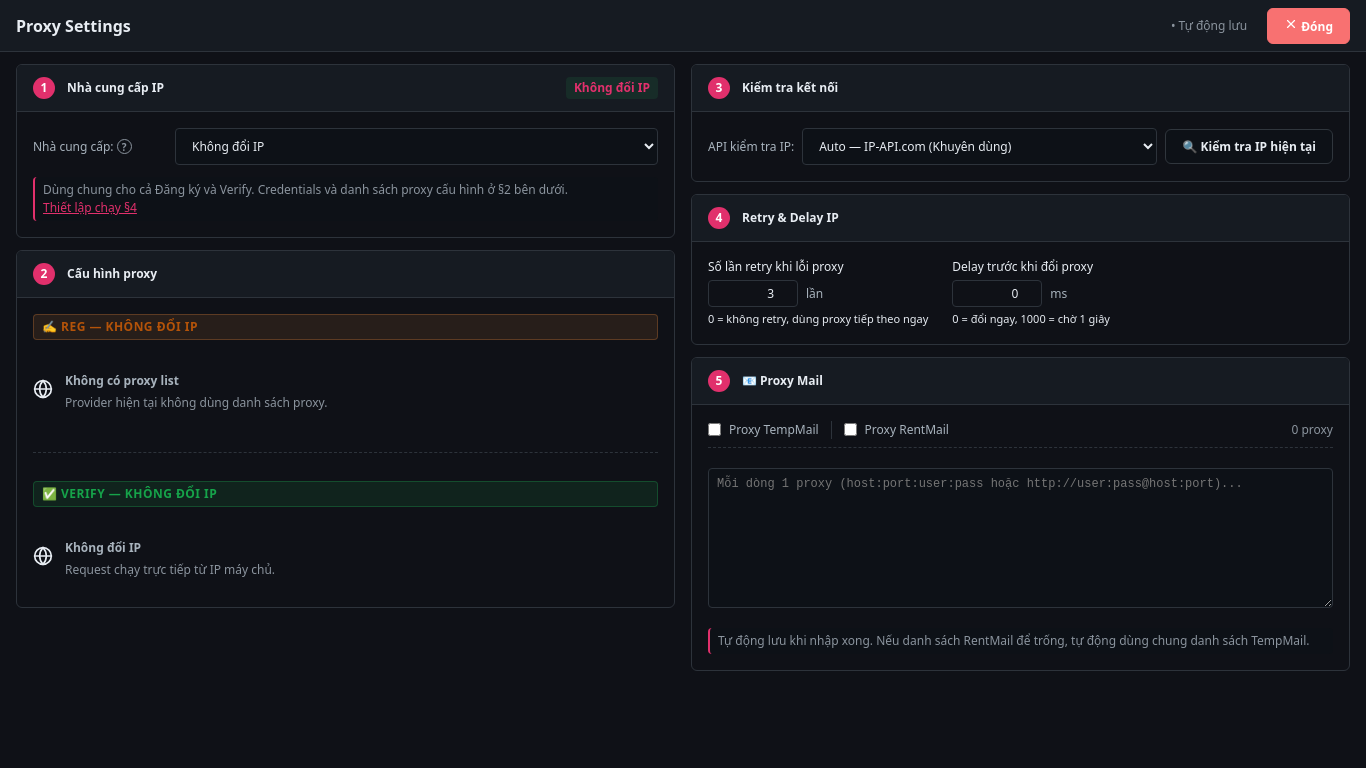
Test: ProxySettingsPage — kiểm tra IP binding › [T6] CheckCurrentIPViaProxy trả về IP → hiển thị kết quả (không crash)
Click the button "🔍 Kiểm tra IP hiện tại": (1249, 146) [1165,129,1333,164]
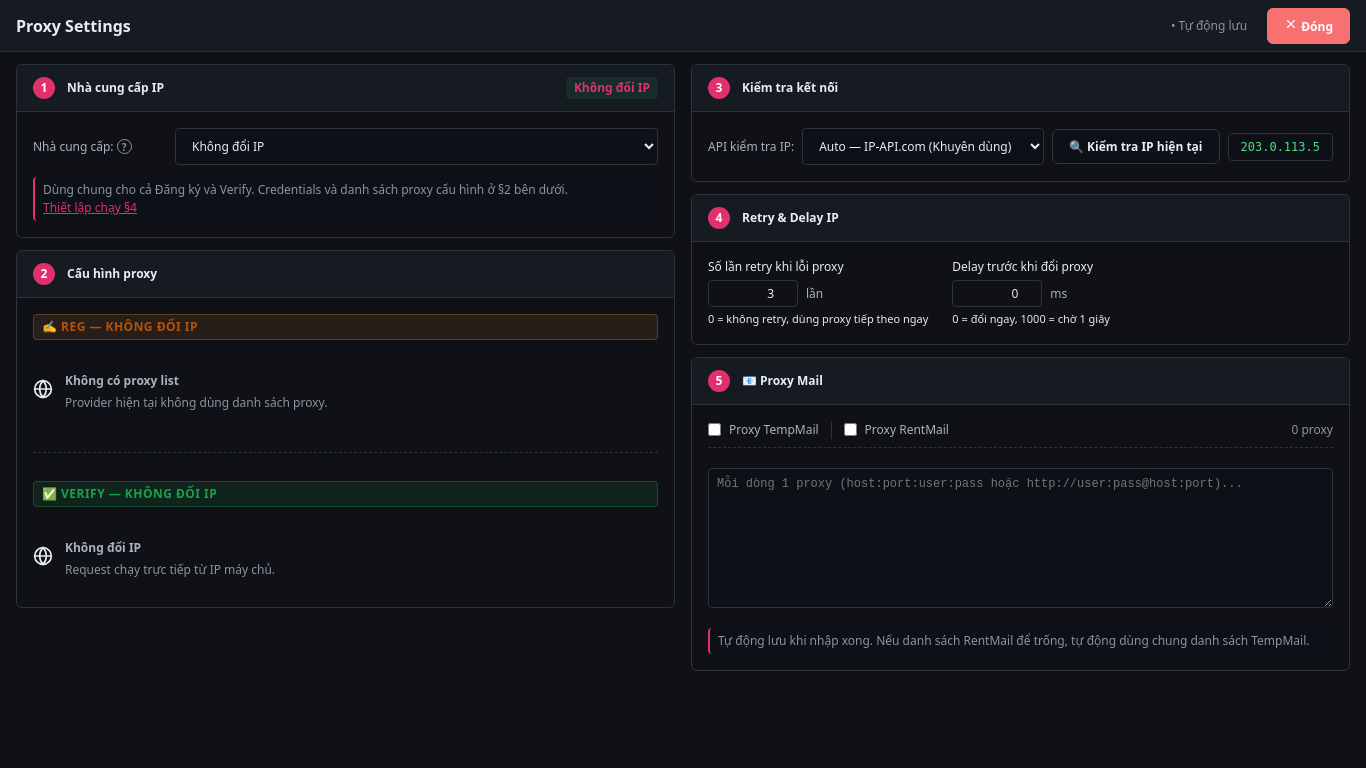
Check: the text "203.0.113.5" is shown, box [1228,132,1333,160]
